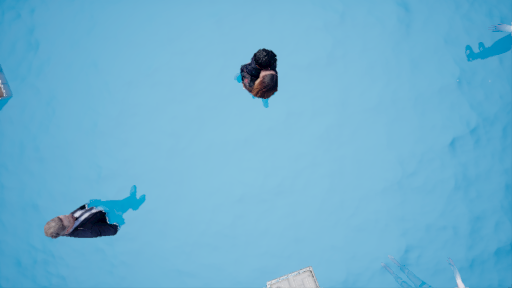person: (46, 187, 144, 249), (237, 46, 289, 109)
